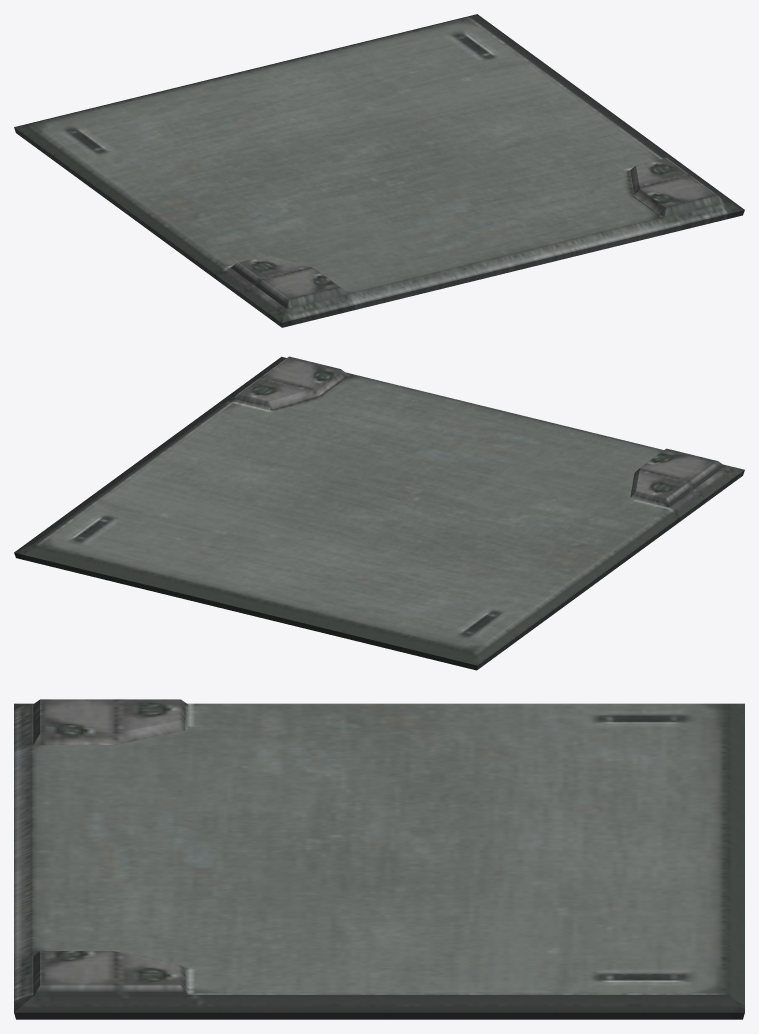
The model's file is Metal_panel_4x4.FBX.
3 renders of one model, top to bottom at view 1: azimuth 30°, elevation 25°; view 2: azimuth 150°, elevation 25°; view 3: azimuth 270°, elevation 25°, orthographic. The views are drawn at different scales.
Visible parts, largest first — view 1: Metal_panel_4x4; view 2: Metal_panel_4x4; view 3: Metal_panel_4x4.
Boxes of the visible parts, box(x1,y1,x2,y2) form: Metal_panel_4x4: box(14, 14, 744, 327); Metal_panel_4x4: box(14, 356, 744, 670); Metal_panel_4x4: box(14, 699, 744, 1019).
Size of the model in its own units: 4 by 4 by 0.1419.
